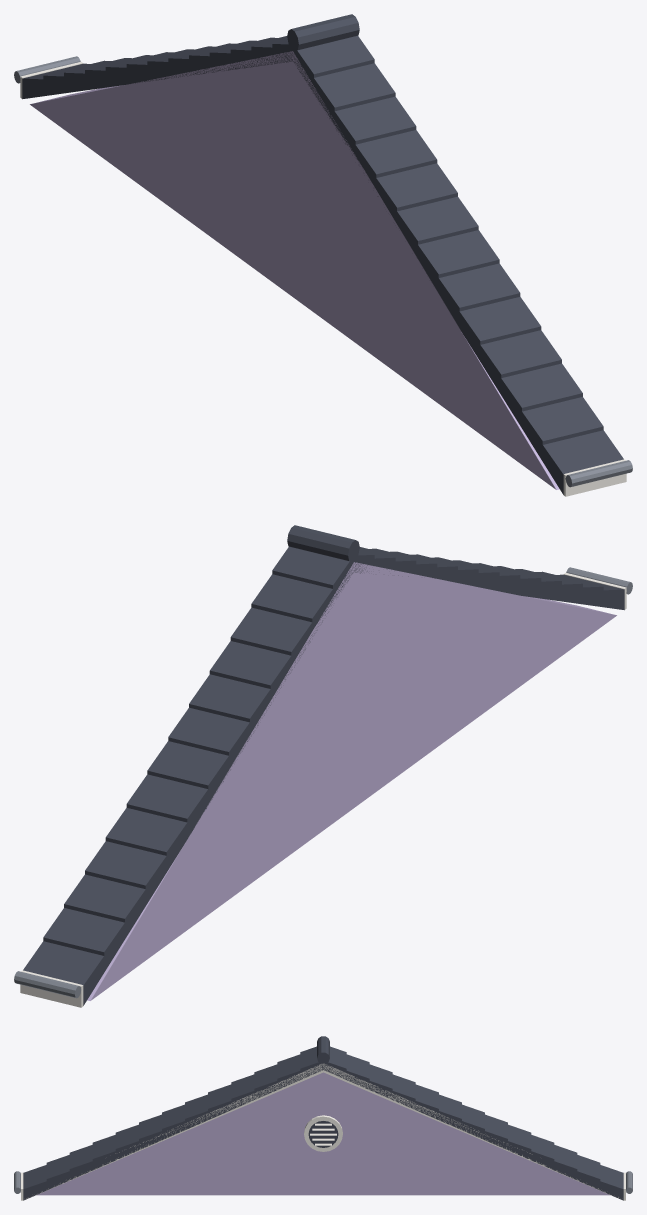
Rendered from roof-gable-end.glb.
3 renders of one model, top to bottom at view 1: azimuth 30°, elevation 25°; view 2: azimuth 150°, elevation 25°; view 3: azimuth 270°, elevation 25°, orthographic. The views are drawn at different scales.
Visible parts, largest first — view 1: roof-gable-end; view 2: roof-gable-end; view 3: roof-gable-end.
Boxes of the visible parts, x1,y1,x2,y2 form: roof-gable-end: (14,14,632,496); roof-gable-end: (14,525,632,1007); roof-gable-end: (14,1036,632,1200).
Size of the model in its own units: 0.6 by 2.52 by 9.53.
